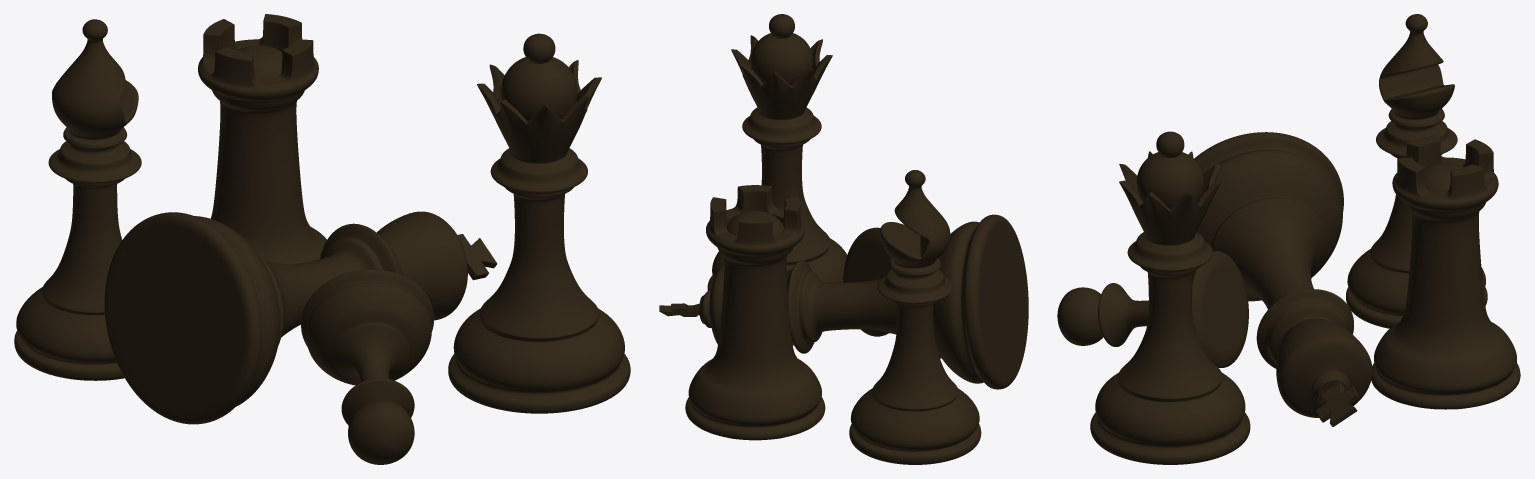
Rendered from 10. Chess set-SXjsyuHZ.glb.
3 views of the same model, side by side, from view 1: azimuth 30°, elevation 25°; view 2: azimuth 150°, elevation 25°; view 3: azimuth 270°, elevation 25° (orthographic). The views are drawn at different scales.
Parts seen in each view (by area): view 1: Cylinder.025, Cylinder.023, Cylinder.026, rook.001, Cylinder.024; view 2: rook.001, Cylinder.025, Cylinder.026, Cylinder.023, Cylinder.024; view 3: Cylinder.025, Cylinder.023, rook.001, Cylinder.026, Cylinder.024.
Boxes of the visible parts, left/top/right/bottom form: Cylinder.025: left=104, top=211, right=497, bottom=424; Cylinder.023: left=448, top=33, right=630, bottom=413; Cylinder.026: left=14, top=19, right=141, bottom=380; rook.001: left=198, top=14, right=326, bottom=264; Cylinder.024: left=301, top=269, right=434, bottom=464; rook.001: left=685, top=185, right=825, bottom=440; Cylinder.025: left=659, top=214, right=1028, bottom=389; Cylinder.026: left=849, top=170, right=981, bottom=464; Cylinder.023: left=707, top=14, right=847, bottom=291; Cylinder.024: left=843, top=227, right=891, bottom=336; Cylinder.025: left=1194, top=132, right=1372, bottom=426; Cylinder.023: left=1090, top=131, right=1250, bottom=464; rook.001: left=1371, top=135, right=1520, bottom=409; Cylinder.026: left=1346, top=14, right=1487, bottom=328; Cylinder.024: left=1057, top=251, right=1248, bottom=367.
Size of the model in its own units: 0.7802 by 0.564 by 0.7876.
